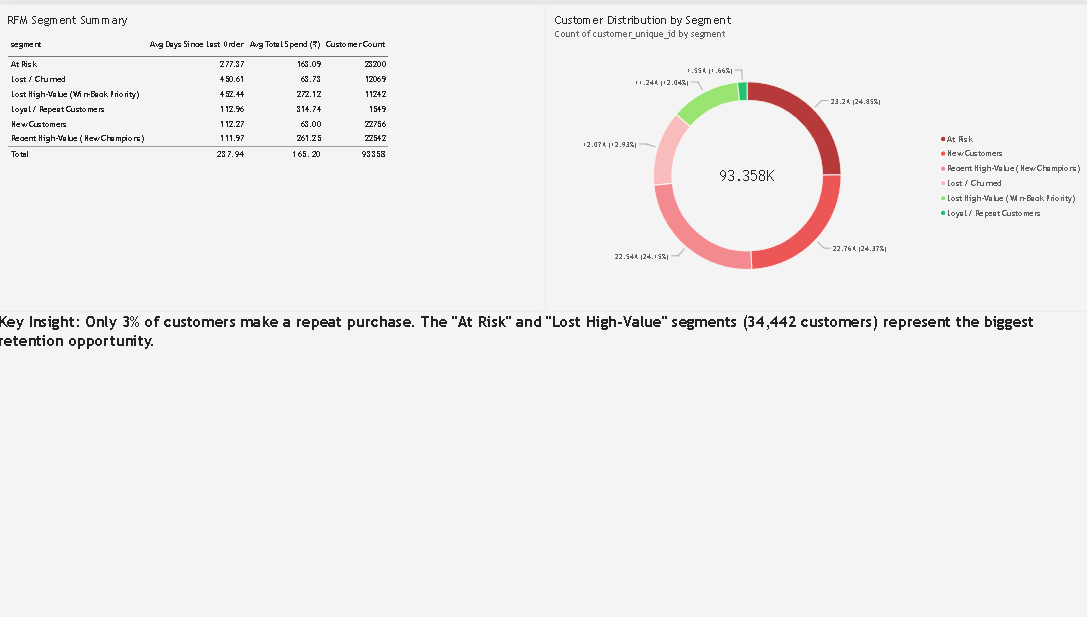

The dashboard page shown, as its layout file describes it:
{"tool":"powerbi","page":{"name":"Retention Deep-Dive","canvas":[1920,1080],"ordinal":1},"visuals":[{"type":"tableEx","title":"RFM Segment Summary","fields":{"Values":["public customer_rfm_segments.segment","Avg(public customer_rfm_segments.recency)","Avg(public customer_rfm_segments.monetary)","public customer_rfm_segments.customer_unique_id"]},"box":[0,0,960,540],"z":0},{"type":"donutChart","title":"Customer Distribution by Segment","fields":{"Category":["public customer_rfm_segments.segment"],"Y":["CountNonNull(public customer_rfm_segments.customer_unique_id)"]},"box":[960,0,960,540],"z":1},{"type":"textbox","box":[0,539.3,1920.4,541.5],"z":2}]}

Visuals, with their boxes in screenshot pixels (x1, y1, x2, y2), scaled from the page's 1920x1080 canvas onto the 1087x617 screenshot:
"RFM Segment Summary" tableEx: {"left": 0, "top": 0, "right": 544, "bottom": 308}
"Customer Distribution by Segment" donutChart: {"left": 544, "top": 0, "right": 1086, "bottom": 308}
textbox: {"left": 0, "top": 308, "right": 1086, "bottom": 616}
